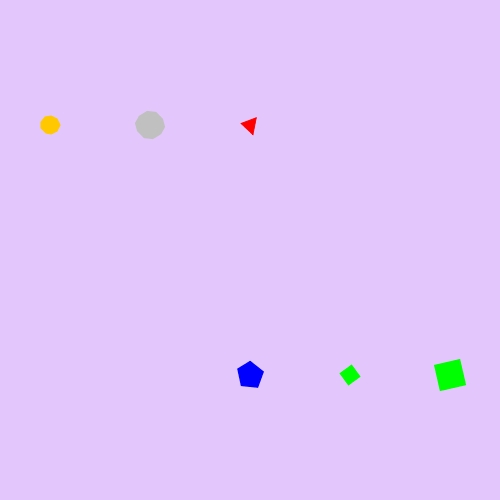decagon: (131, 107, 169, 143)
nonagon: (36, 111, 65, 139)
pentagon: (233, 358, 268, 393)
quadrilateral: (428, 353, 473, 398), (335, 360, 365, 390)
triangle: (238, 112, 263, 138)
